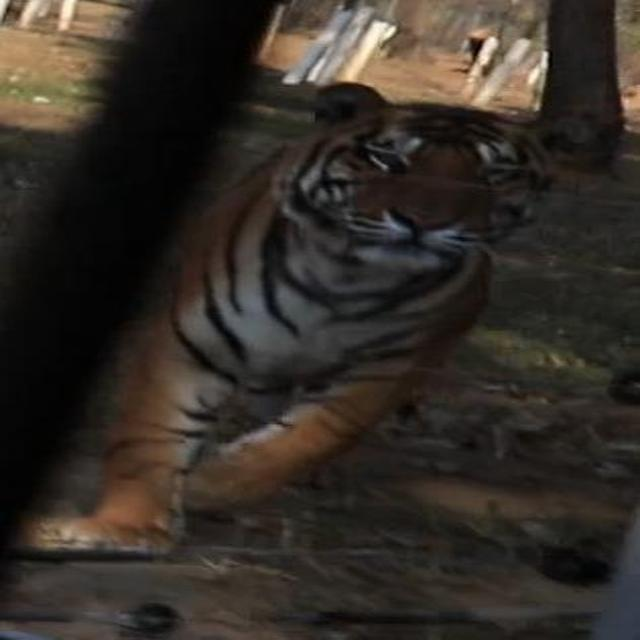tiger: (39, 53, 591, 573)
